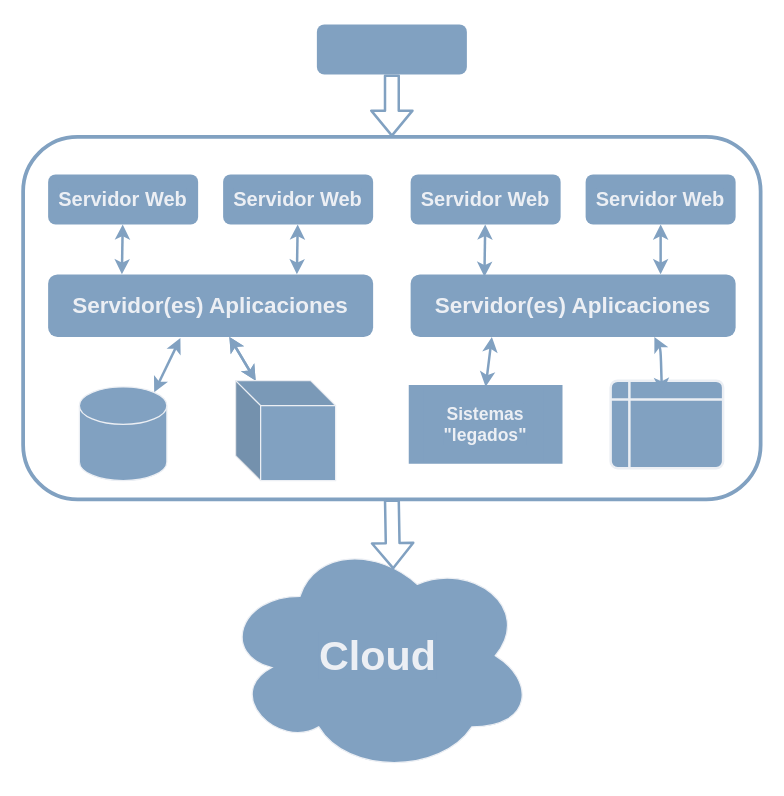
This 784x796 diagram has some shape labels left out. Each missing label, with the box of its shape:
BD: (78, 386, 167, 481)
Cliente(s): (316, 24, 466, 74)
Contenido: (609, 379, 724, 469)
CRM: (234, 379, 336, 481)
